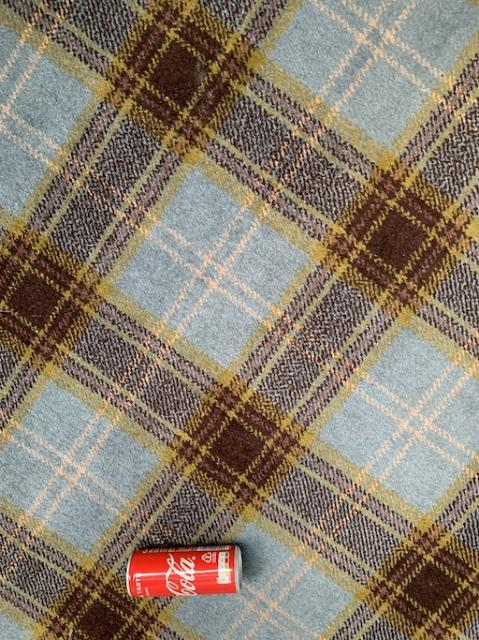metal: (126, 543, 241, 596)
